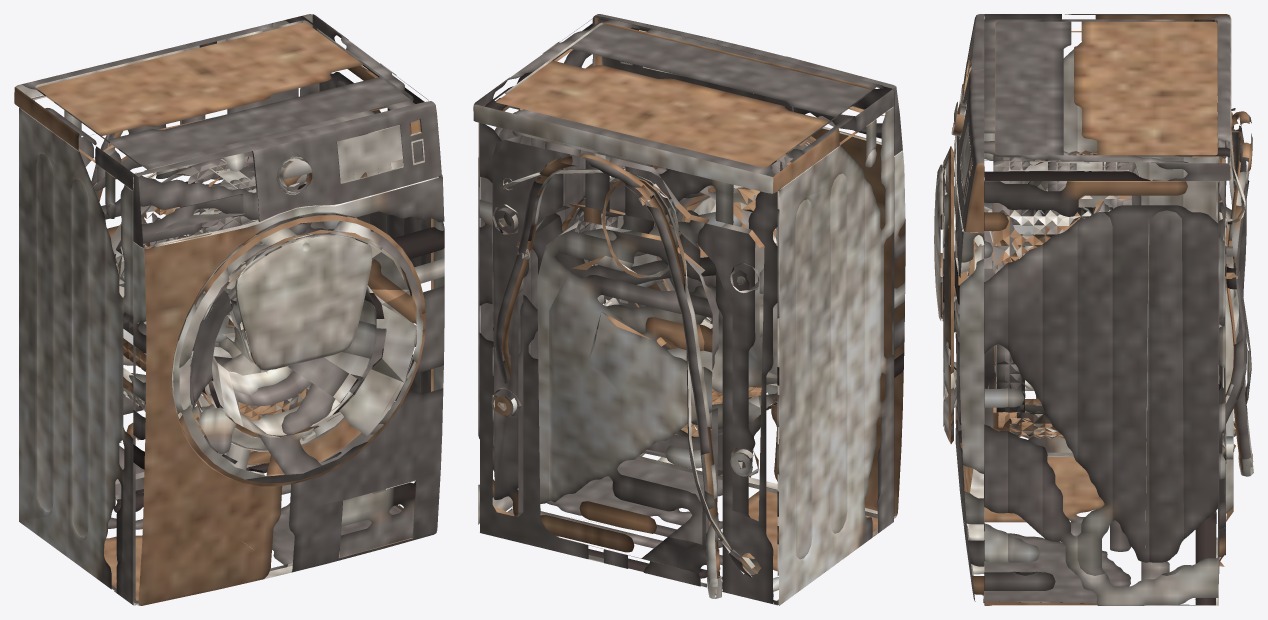
3 renders of one model, left to right at view 1: azimuth 30°, elevation 25°; view 2: azimuth 150°, elevation 25°; view 3: azimuth 270°, elevation 25°, orthographic. The views are drawn at different scales.
Parts seen in each view (by area): view 1: solid_001, glass_001, solid_005, glass_003, glass_002, solid_004, solid_002, glass_004; view 2: solid_001, solid_005, solid_003, solid_004, glass_002, solid_006; view 3: solid_001, solid_005, solid_003, solid_004, glass_001, glass_003.
Part boxes in pixels (x1=…): solid_001: x1=14, y1=14, x2=444, y2=605; glass_001: x1=179, y1=221, x2=423, y2=482; solid_005: x1=33, y1=83, x2=425, y2=495; glass_003: x1=235, y1=235, x2=372, y2=370; glass_002: x1=208, y1=285, x2=385, y2=437; solid_004: x1=95, y1=120, x2=403, y2=475; solid_002: x1=337, y1=125, x2=403, y2=183; glass_004: x1=279, y1=158, x2=312, y2=192; solid_001: x1=473, y1=14, x2=905, y2=605; solid_005: x1=479, y1=123, x2=811, y2=605; solid_003: x1=495, y1=153, x2=720, y2=586; solid_004: x1=503, y1=139, x2=808, y2=598; glass_002: x1=668, y1=186, x2=779, y2=324; solid_006: x1=491, y1=207, x2=773, y2=596; solid_001: x1=954, y1=14, x2=1231, y2=605; solid_005: x1=943, y1=96, x2=1241, y2=605; solid_003: x1=1219, y1=111, x2=1253, y2=465; solid_004: x1=943, y1=112, x2=1253, y2=476; glass_001: x1=943, y1=151, x2=957, y2=439; glass_003: x1=934, y1=164, x2=942, y2=320.
Bounding box in the file's own units: 1.04 × 1.44 × 0.9358.
